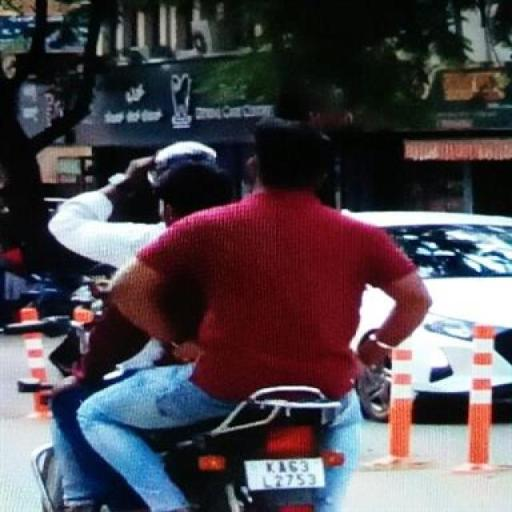tripple riding: (40, 114, 432, 390)
